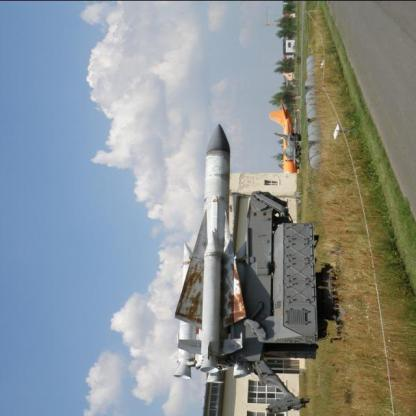MIL_TBM: (200, 123, 232, 383)
